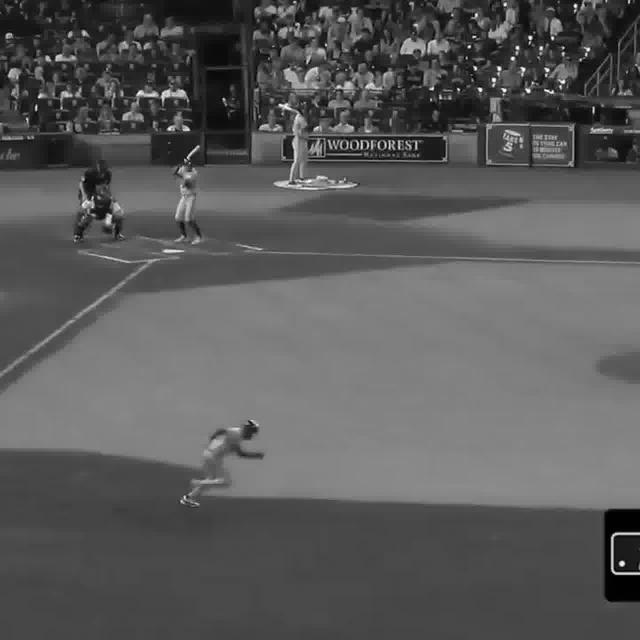base: (162, 245, 186, 255)
bat: (174, 142, 203, 178)
shoe: (181, 496, 200, 513), (176, 233, 187, 247), (74, 234, 84, 248), (193, 234, 205, 244), (113, 232, 126, 239)
